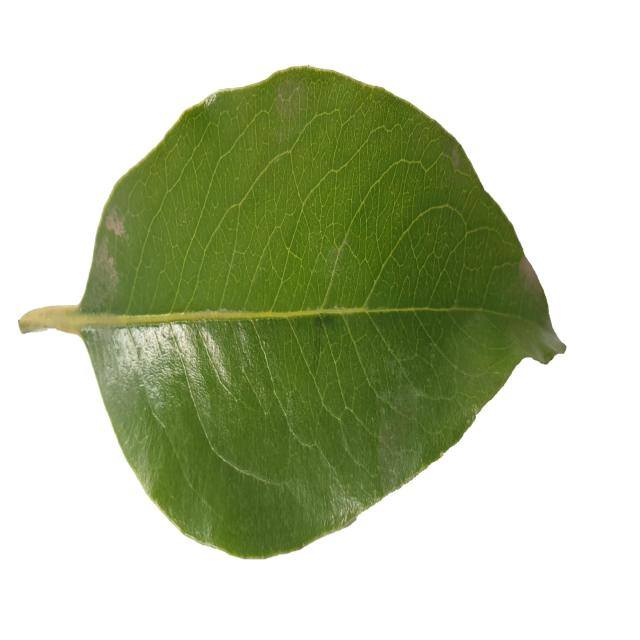Medicinal-Sandalwood: (18, 63, 569, 562)
